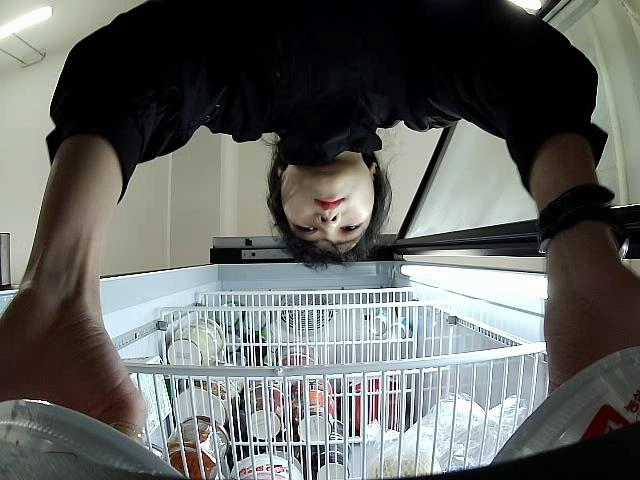00_hand: (0, 314, 147, 438)
09_yukGaeJang: (489, 343, 640, 466), (0, 394, 191, 480)
